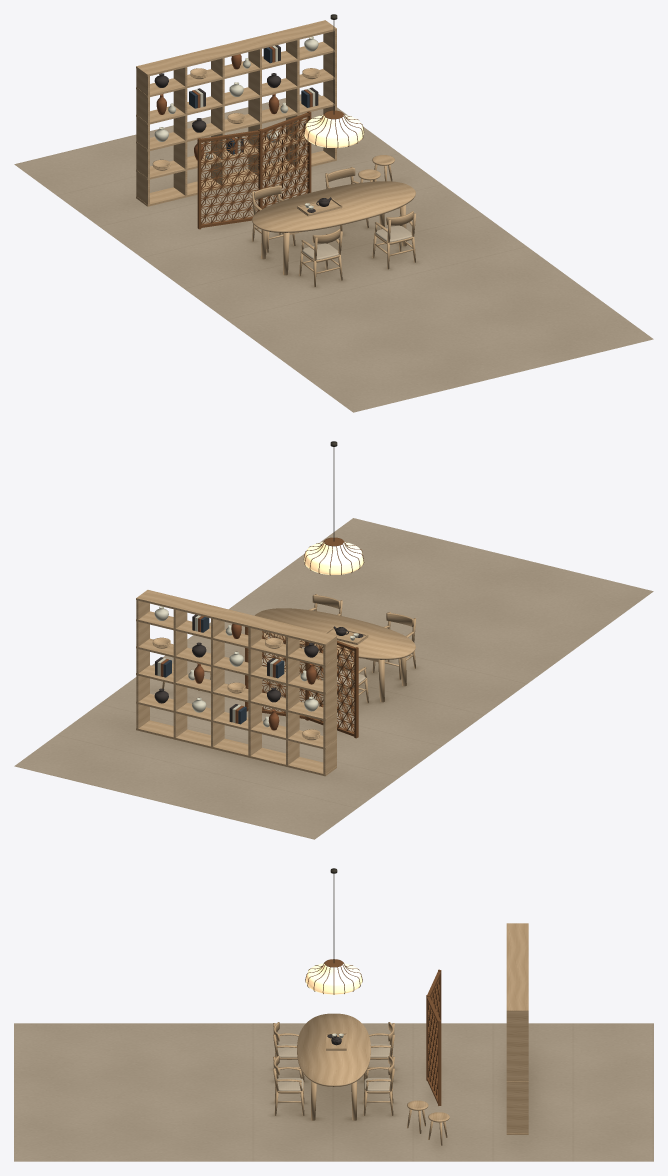
The model's file is dining.glb.
The picture shows the model from 3 angles, top to bottom: view 1: azimuth 30°, elevation 25°; view 2: azimuth 150°, elevation 25°; view 3: azimuth 270°, elevation 25°; orthographic projection. The views are drawn at different scales.
Visible parts, largest first — view 1: TimeStyleStone, TimeStyleOak, TimeStyleObjects, TimeStyleSpacecraft, TimeStyleLinen; view 2: TimeStyleStone, TimeStyleOak, TimeStyleObjects, TimeStyleSpacecraft; view 3: TimeStyleStone, TimeStyleOak, TimeStyleObjects, TimeStyleSpacecraft, TimeStyleLinen.
Part boxes in pixels (left/top/right/bottom): TimeStyleStone: left=14, top=94, right=653, bottom=412; TimeStyleOak: left=136, top=20, right=415, bottom=286; TimeStyleObjects: left=154, top=14, right=364, bottom=229; TimeStyleSpacecraft: left=304, top=115, right=363, bottom=147; TimeStyleLinen: left=302, top=225, right=412, bottom=259; TimeStyleStone: left=14, top=518, right=653, bottom=839; TimeStyleOak: left=136, top=590, right=415, bottom=776; TimeStyleObjects: left=154, top=441, right=364, bottom=738; TimeStyleSpacecraft: left=304, top=542, right=363, bottom=574; TimeStyleStone: left=14, top=1023, right=653, bottom=1161; TimeStyleOak: left=273, top=923, right=528, bottom=1145; TimeStyleObjects: left=276, top=868, right=441, bottom=1105; TimeStyleSpacecraft: left=305, top=963, right=362, bottom=994; TimeStyleLinen: left=275, top=1044, right=392, bottom=1091.
Bounding box in the file's own units: 5.08 × 3.82 × 9.93.
Materials: 5 (3 with a texture image).
